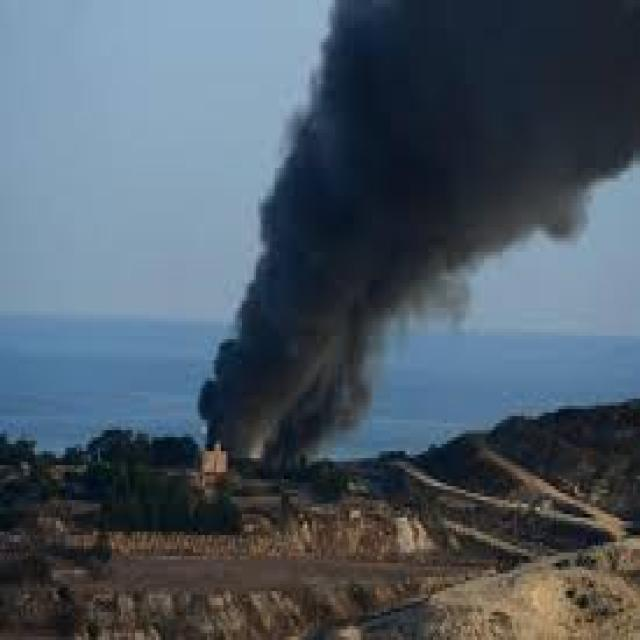Smoke: (195, 0, 639, 470)
